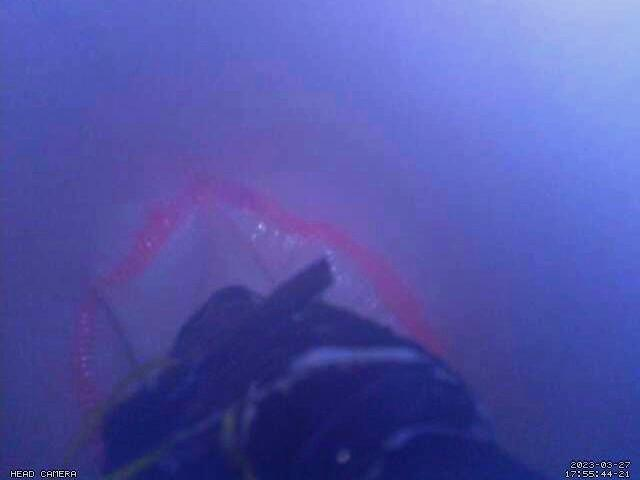head: (68, 172, 454, 480)
